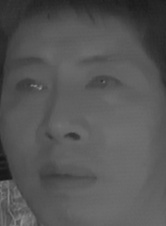eye: (83, 72, 127, 97), (8, 74, 49, 98)
mouth: (35, 156, 99, 194)
